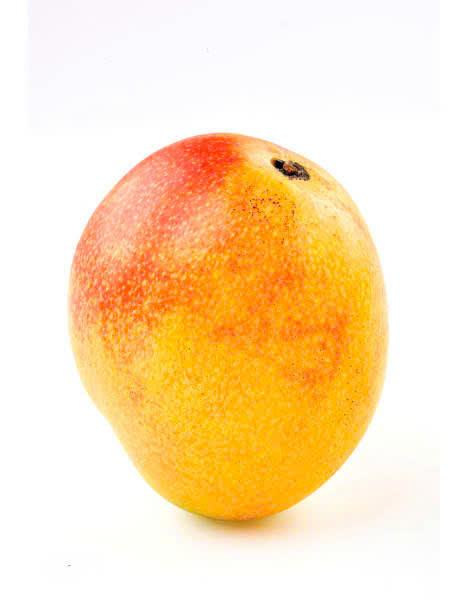mango: (79, 119, 431, 558)
